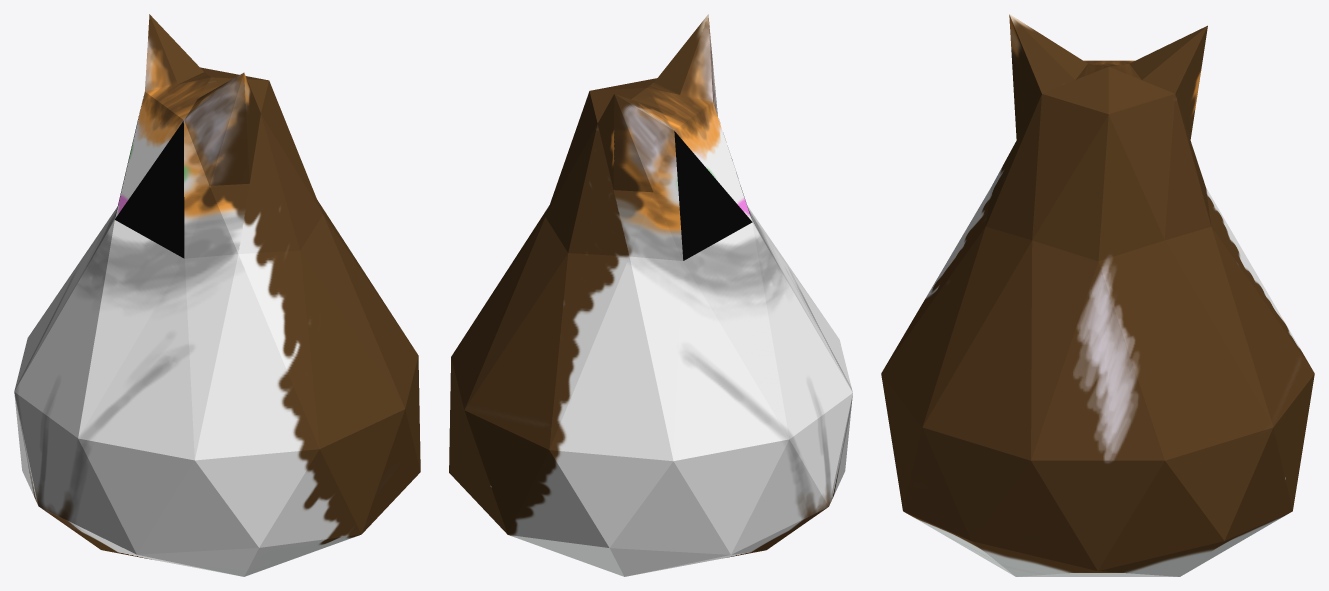
Rendered from Gatopera.dae.
3 renders of one model, left to right at view 1: azimuth 30°, elevation 25°; view 2: azimuth 150°, elevation 25°; view 3: azimuth 270°, elevation 25°, orthographic. The views are drawn at different scales.
Parts seen in each view (by area): view 1: GatoPera, Ojos; view 2: GatoPera, Ojos; view 3: GatoPera.
Part boxes in pixels (x1=…): GatoPera: x1=14, y1=14, x2=420, y2=576; Ojos: x1=115, y1=106, x2=184, y2=258; GatoPera: x1=449, y1=14, x2=852, y2=576; Ojos: x1=674, y1=131, x2=752, y2=260; GatoPera: x1=881, y1=14, x2=1314, y2=576.
Bounding box in the file's own units: 2.91 × 2.99 × 4.06.
